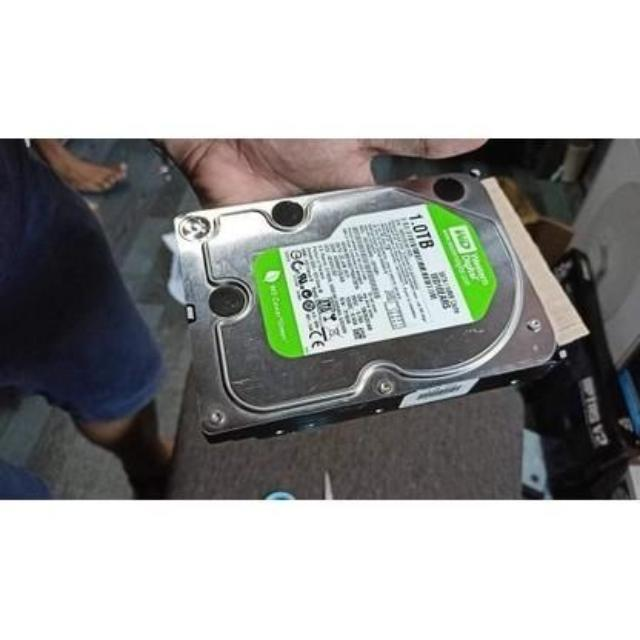DISK: (163, 169, 554, 426)
